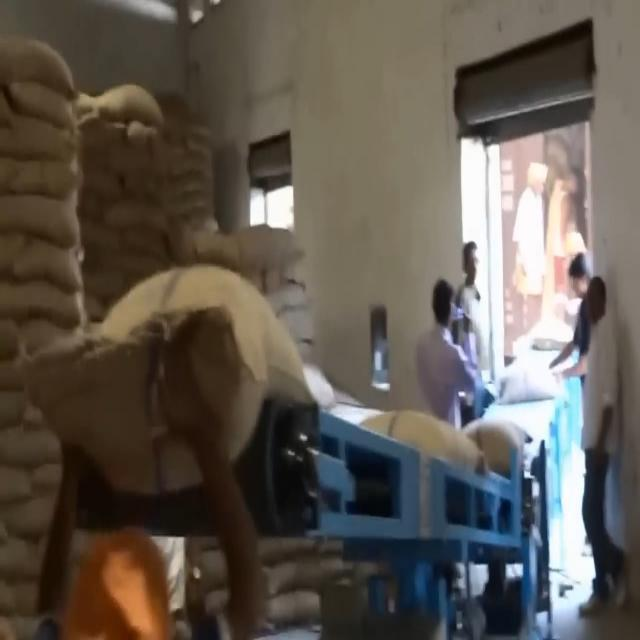gunny_bag: (18, 263, 323, 497), (362, 415, 480, 477)
